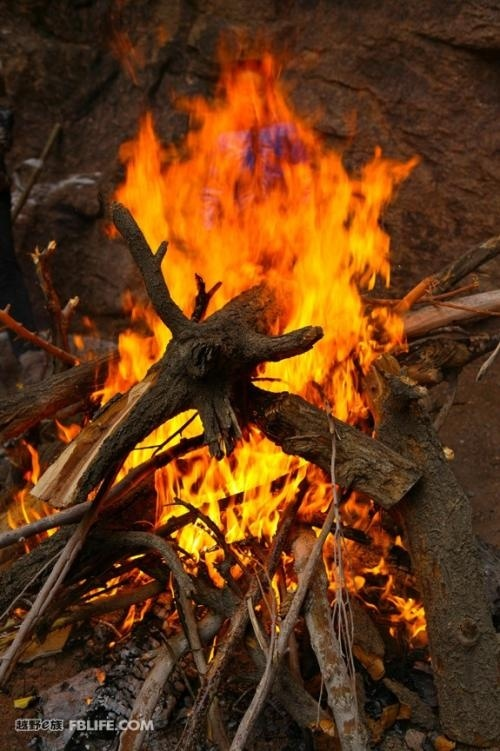fire: (94, 35, 436, 481), (4, 435, 59, 543)
